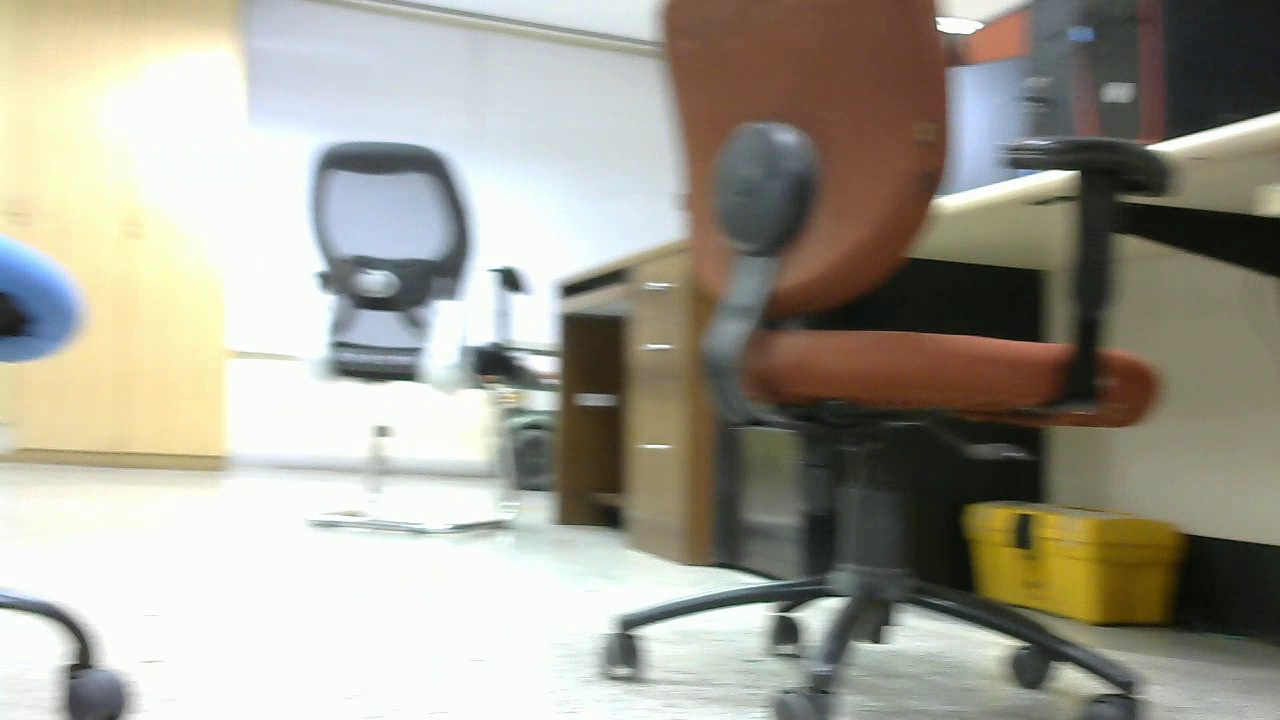chair: (590, 1, 1176, 720), (272, 130, 557, 548)
